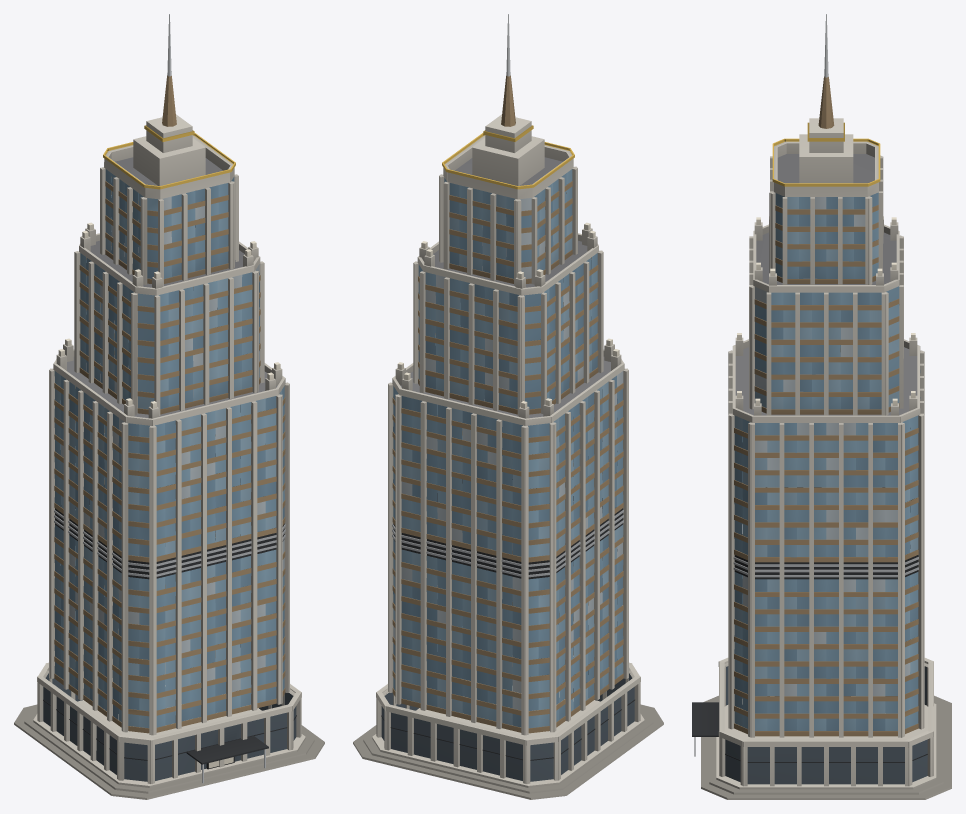
3 renders of one model, left to right at view 1: azimuth 30°, elevation 25°; view 2: azimuth 150°, elevation 25°; view 3: azimuth 270°, elevation 25°, orthographic.
Parts seen in each view (by area): view 1: t6; view 2: t6; view 3: t6.
Part boxes in pixels (x1,y1,x2,y2): t6: (14,14,324,799); t6: (353,14,663,799); t6: (692,14,951,799).
Bounding box in the file's own units: 50.99 × 164 × 52.8.
